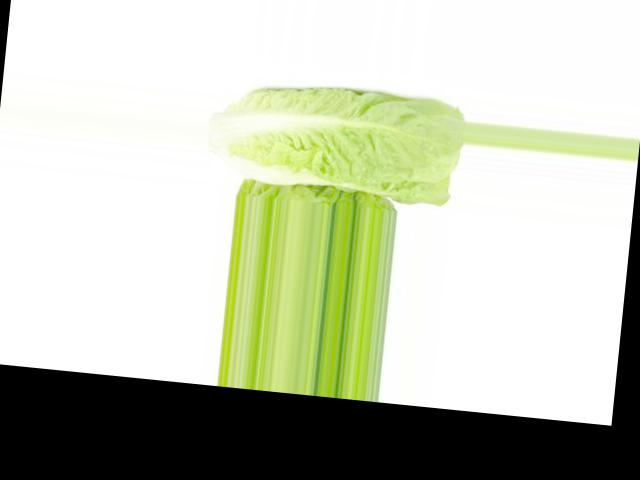lettuce: (240, 55, 408, 197)
